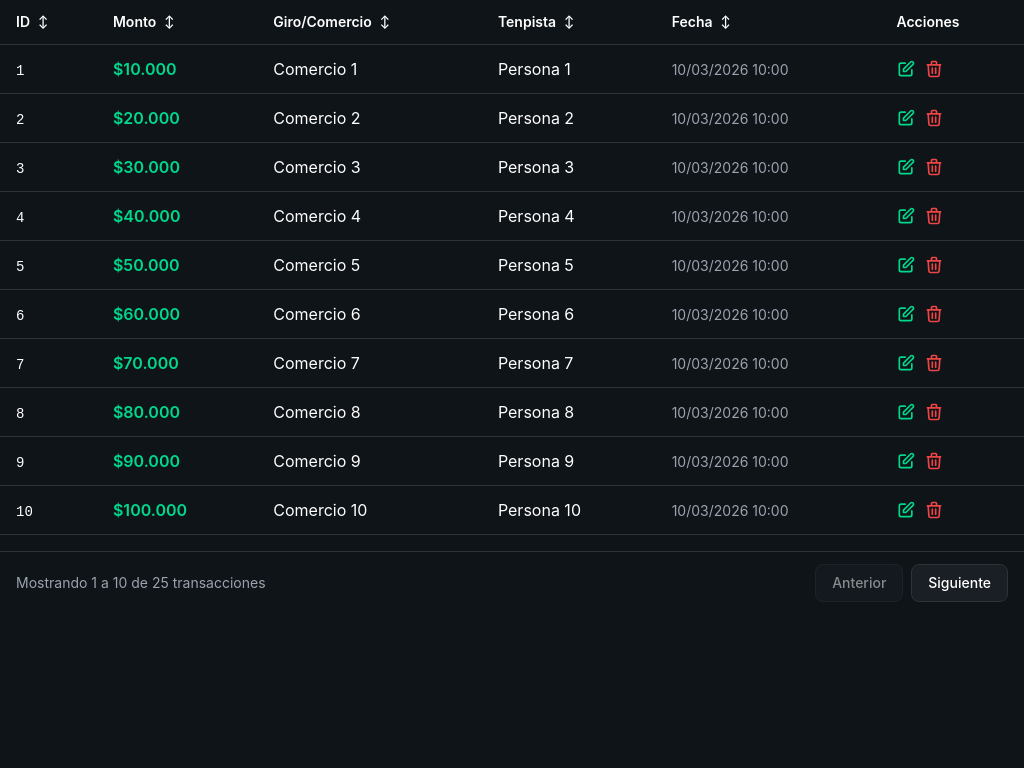
it: TransactionsTable › Paginación › debe navegar a la siguiente página
Click the button "Siguiente" at (960, 583), box 911,564 -> 1008,602
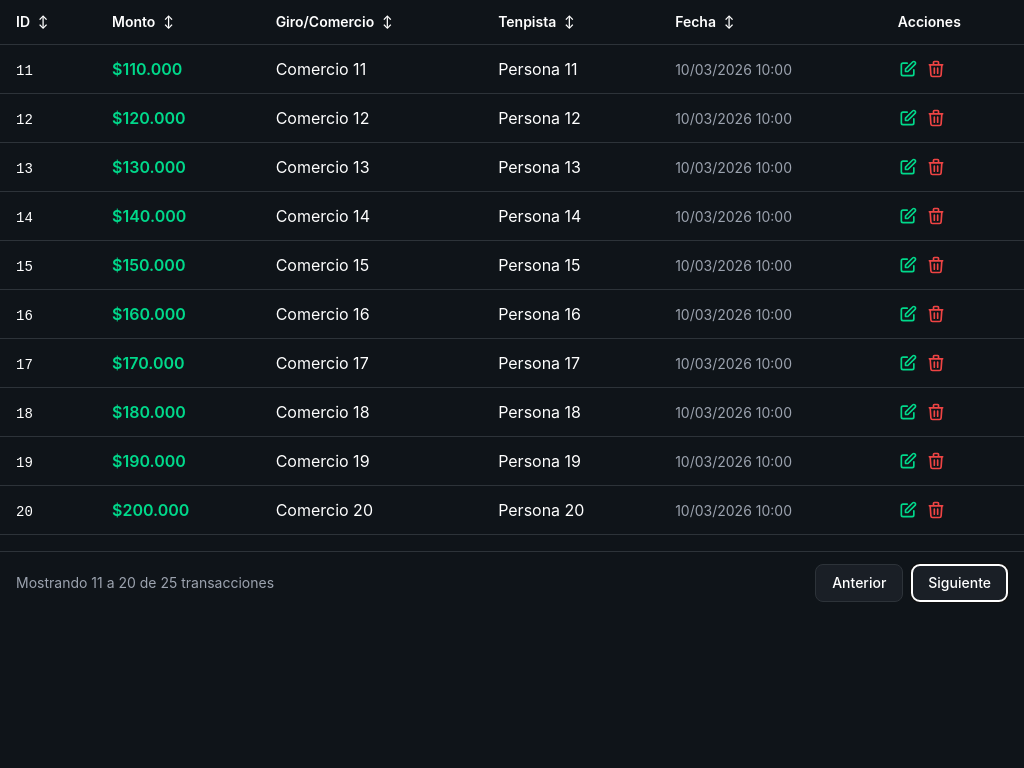
Expected: the text "Mostrando 11 a 20 de 25 transacciones" is shown, 16,573 -> 274,593
